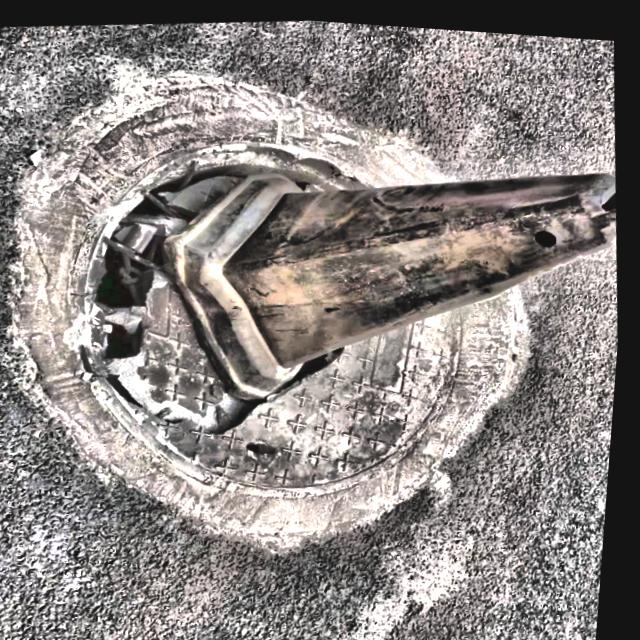open_manhole: (82, 168, 411, 486)
